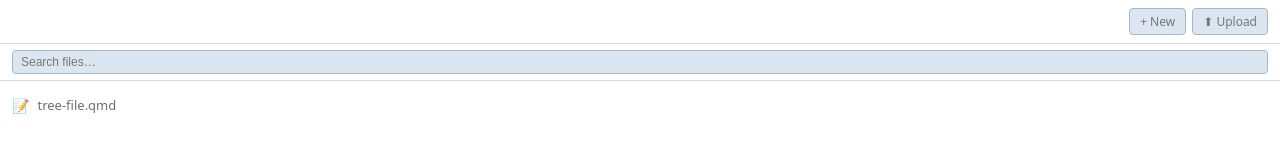
Test: FileSidebar full-text search › clears the query with the clear button, restoring the file tree
Type "zzz" into the search field labelled "Search files" at (640, 62), box [12,50,1268,74]
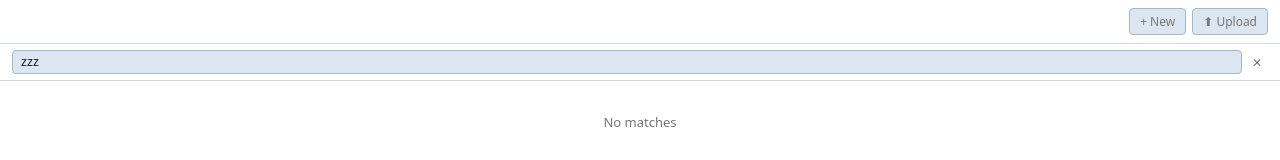
Expected: the text "No matches" is shown, [603,113,676,131]
Click the button named "Clear search" at (1257, 62), box [1246,52,1268,72]
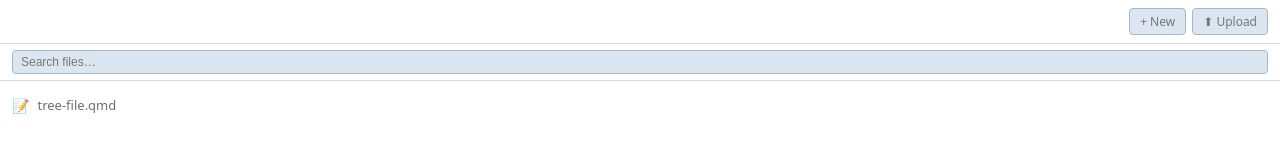
Expected: the search field labelled "Search files" is empty, [12,50,1268,74]
Expected: the text "tree-file.qmd" is shown, [38,96,116,115]
